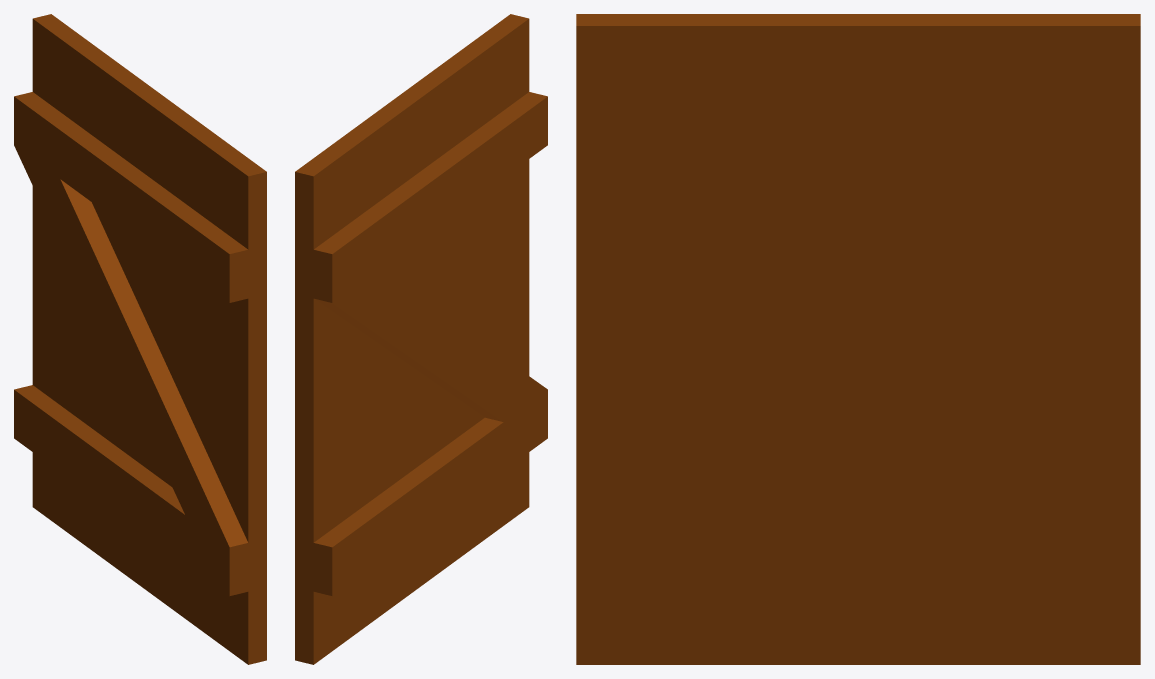
The model's file is Fence.fbx.
3 views of the same model, side by side, from view 1: azimuth 30°, elevation 25°; view 2: azimuth 150°, elevation 25°; view 3: azimuth 270°, elevation 25° (orthographic). The views are drawn at different scales.
Parts seen in each view (by area): view 1: Fence; view 2: Fence; view 3: Fence.
Boxes of the visible parts, x1,y1,x2,y2 form: Fence: [14, 14, 266, 664]; Fence: [295, 14, 547, 664]; Fence: [576, 14, 1140, 664].
Bounding box in the file's own units: 20 × 250 × 200.
